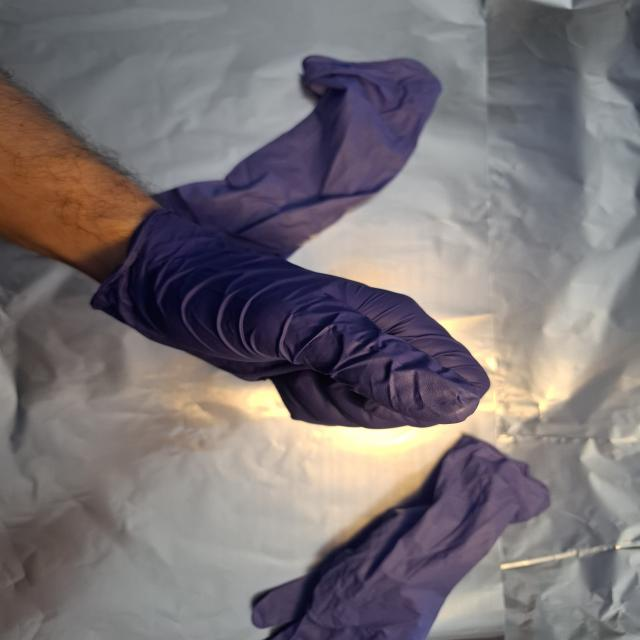glove_on: (91, 208, 496, 433)
